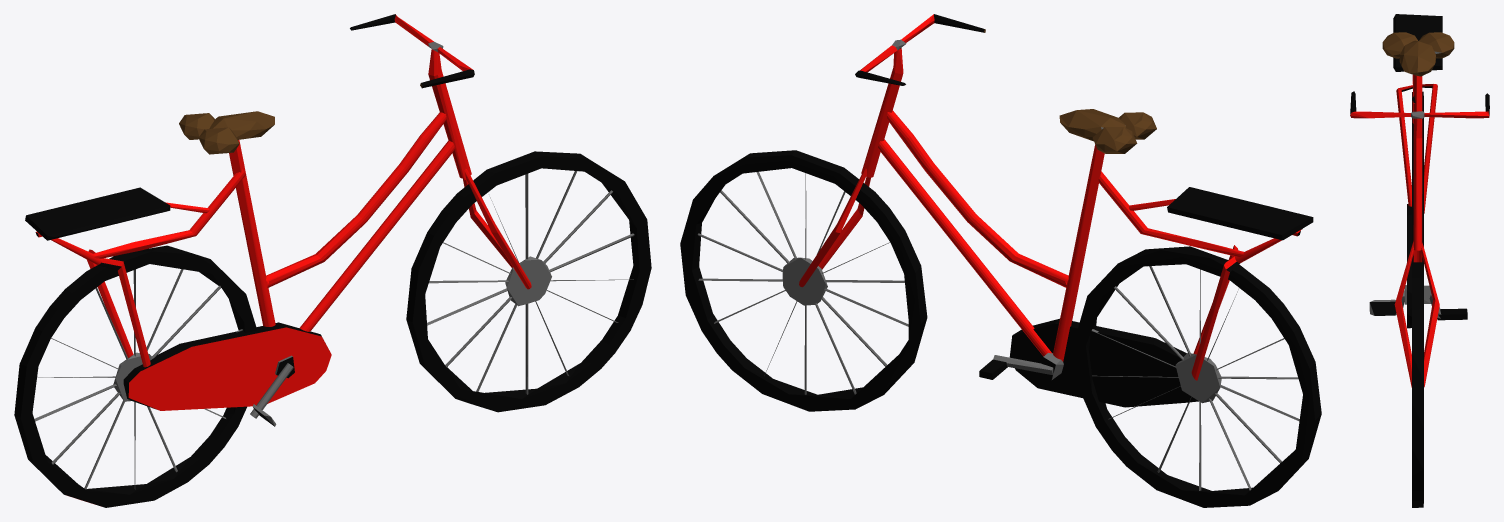
Rendered from bike.glb.
3 renders of one model, left to right at view 1: azimuth 30°, elevation 25°; view 2: azimuth 150°, elevation 25°; view 3: azimuth 270°, elevation 25°, orthographic. The views are drawn at different scales.
Visible parts, largest first — view 1: fiets; view 2: fiets; view 3: fiets.
Boxes of the visible parts, box(x1,y1,x2,y2) form: fiets: box(14, 14, 651, 507); fiets: box(680, 14, 1321, 507); fiets: box(1350, 14, 1489, 507).
Size of what is drawn, in the model's own units: 4.24 by 2.48 by 0.9126.
